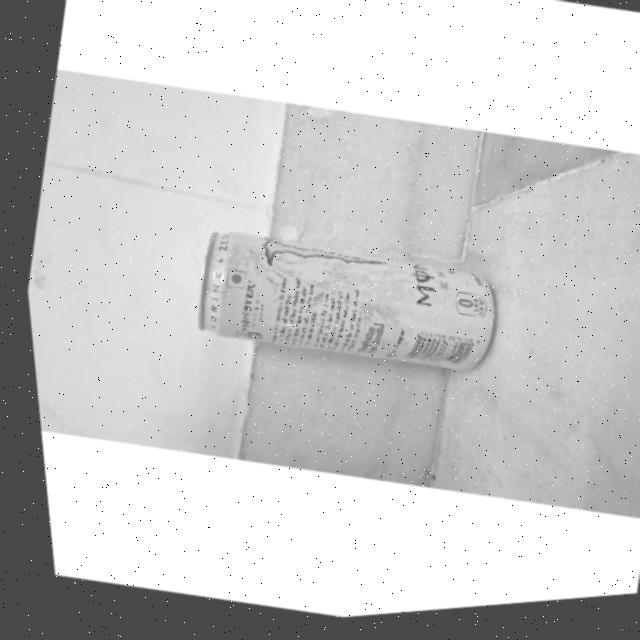White Monster: (170, 199, 498, 404)
